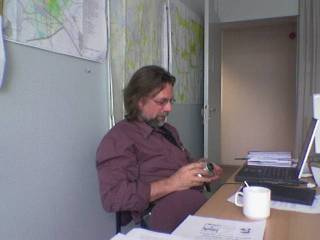person: (95, 66, 224, 233)
